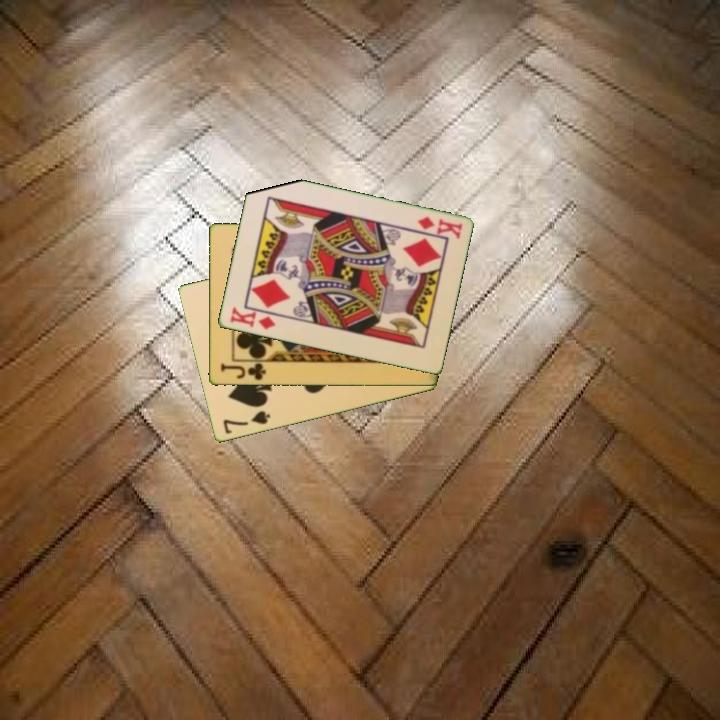7s: (219, 407, 273, 437)
Jc: (217, 360, 268, 383)
Kd: (226, 304, 278, 333), (414, 213, 465, 241)
